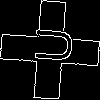U: (25, 25, 74, 65)
